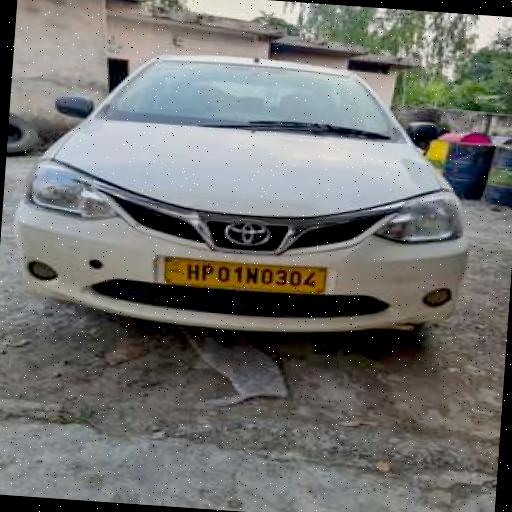license_plate`: (164, 256, 326, 293)
